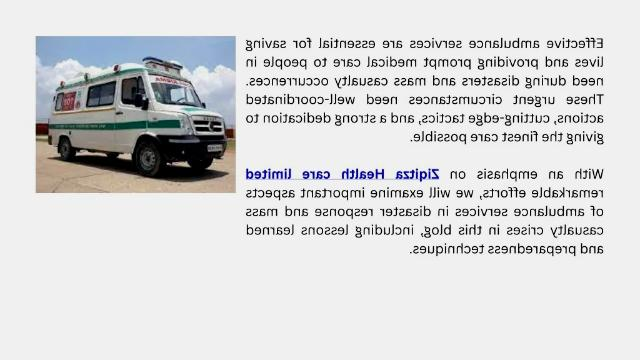ambulance: (45, 54, 225, 187)
